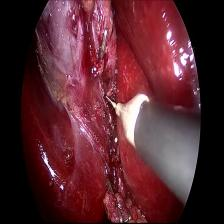Hook: (102, 85, 156, 155)
